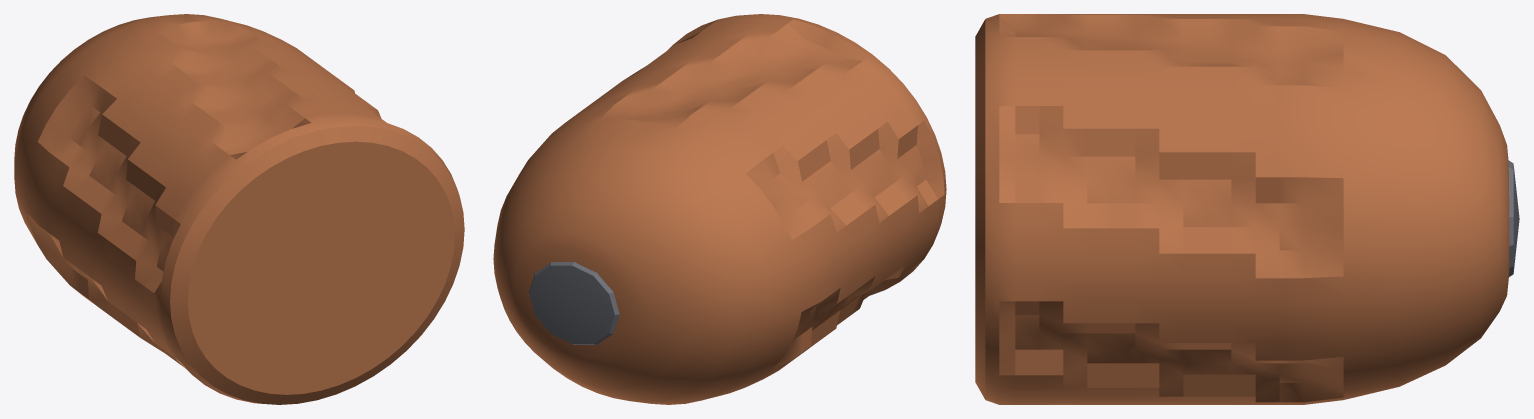
Rendered from bullet.glb.
3 renders of one model, left to right at view 1: azimuth 30°, elevation 25°; view 2: azimuth 150°, elevation 25°; view 3: azimuth 270°, elevation 25°, orthographic. The views are drawn at different scales.
Visible parts, largest first — view 1: bullet; view 2: bullet; view 3: bullet.
Boxes of the visible parts, x1,y1,x2,y2 form: bullet: (14, 14, 464, 404); bullet: (493, 14, 946, 404); bullet: (975, 14, 1519, 404).
Size of the model in its own units: 0.04 by 0.035 by 0.05.
